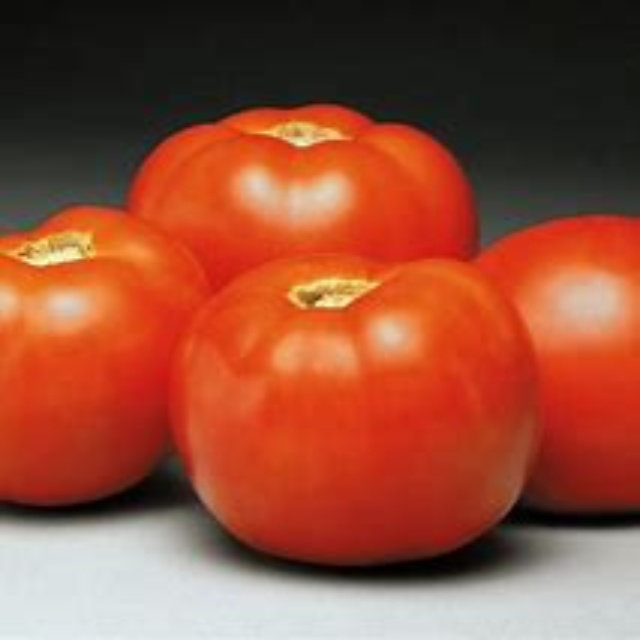tomato: (173, 254, 544, 570), (128, 105, 474, 309), (4, 202, 206, 510), (460, 210, 639, 519)
